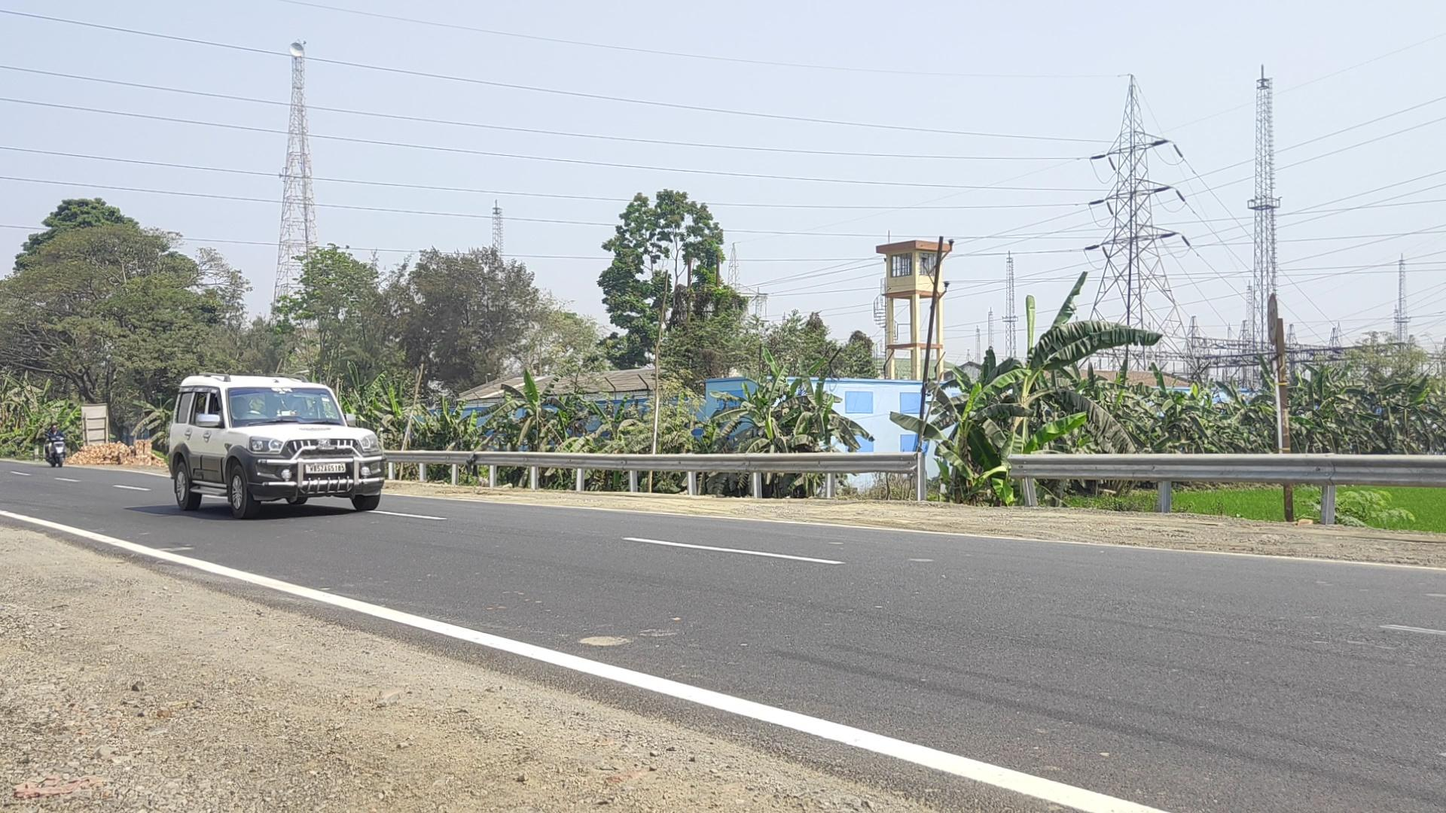bike: (44, 424, 69, 468)
car: (168, 372, 386, 520)
